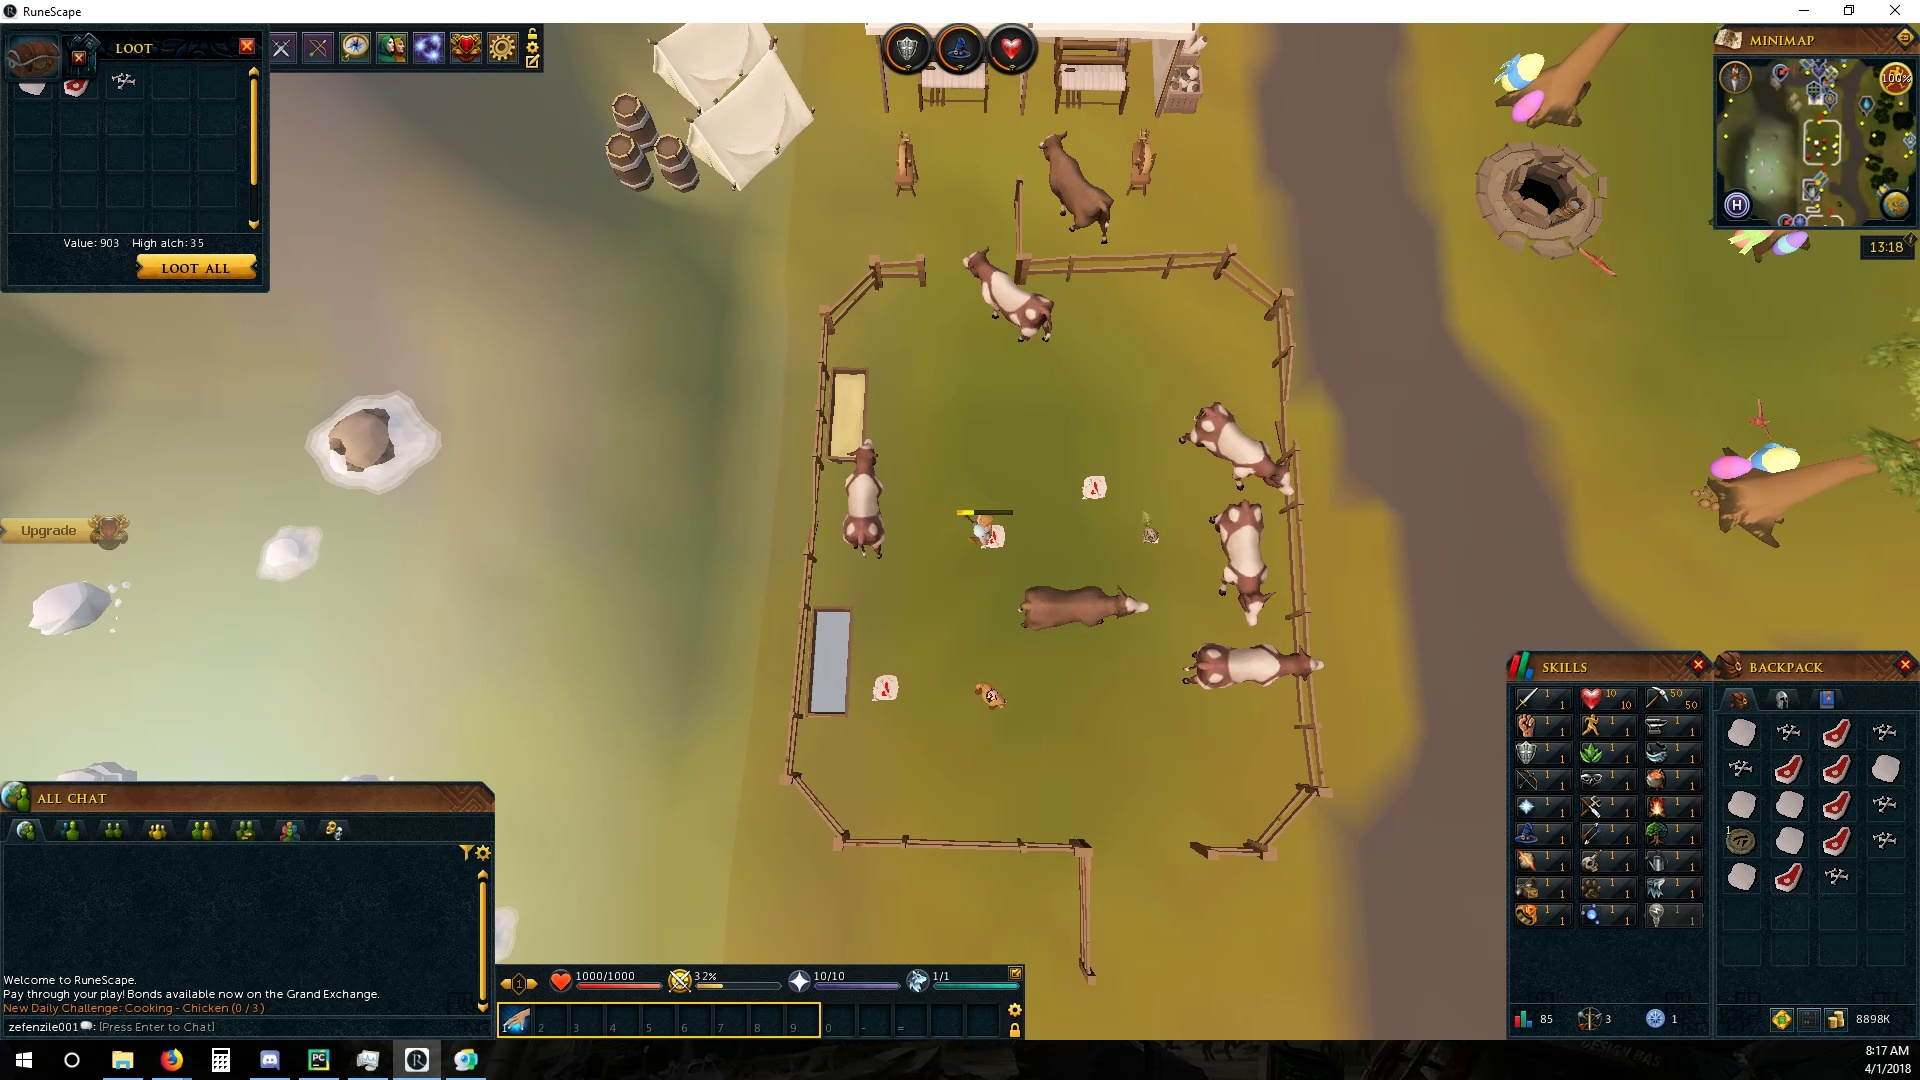cow: (1179, 400, 1298, 501), (1036, 124, 1116, 249), (1203, 496, 1276, 628), (961, 245, 1056, 345), (1182, 642, 1329, 691), (1017, 582, 1153, 632), (843, 438, 890, 560)
cow_drop: (870, 675, 902, 702), (980, 524, 1010, 550), (1083, 471, 1108, 501)
